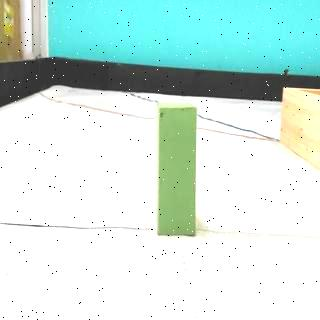greenbox: (158, 108, 198, 236)
